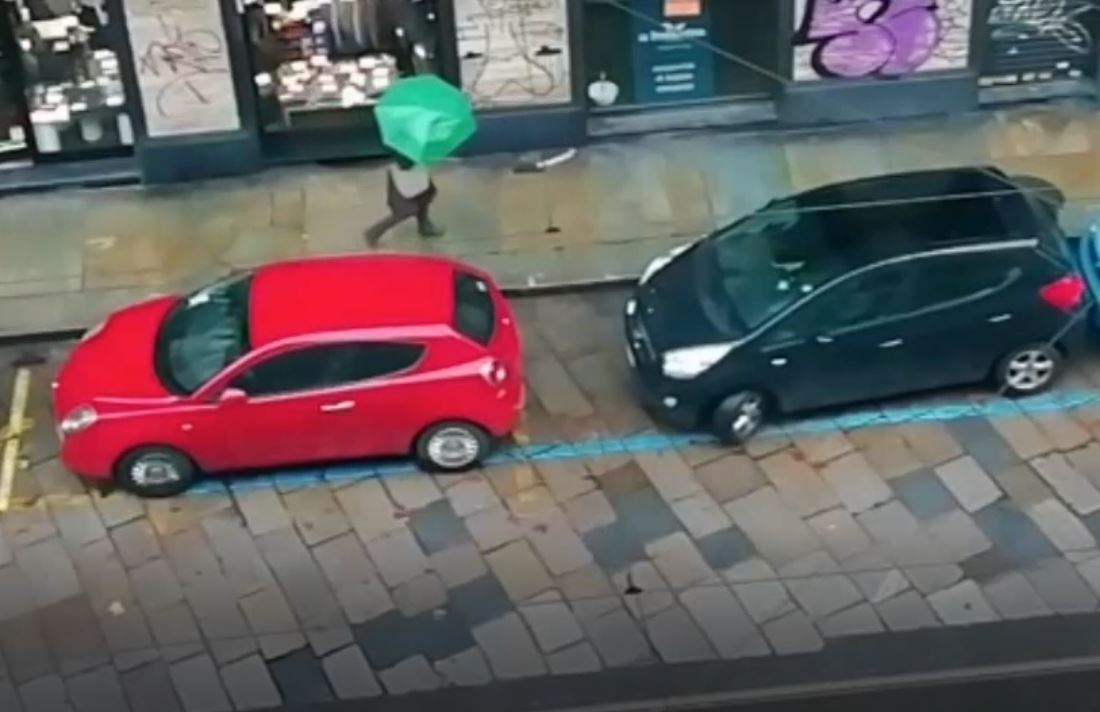Car: (619, 167, 1095, 450), (47, 254, 523, 501)
